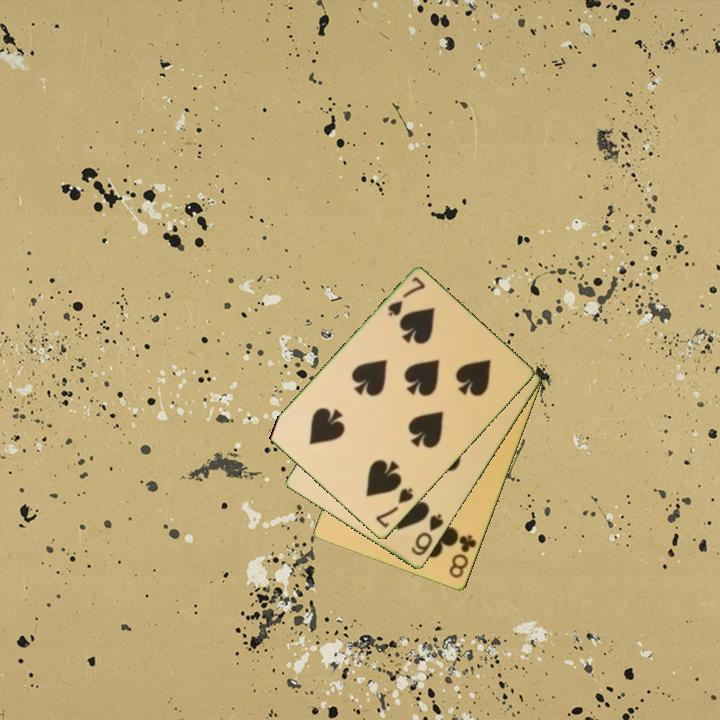6s: (408, 510, 447, 559)
7s: (372, 484, 417, 531), (384, 273, 428, 320)
8c: (446, 532, 480, 582)
